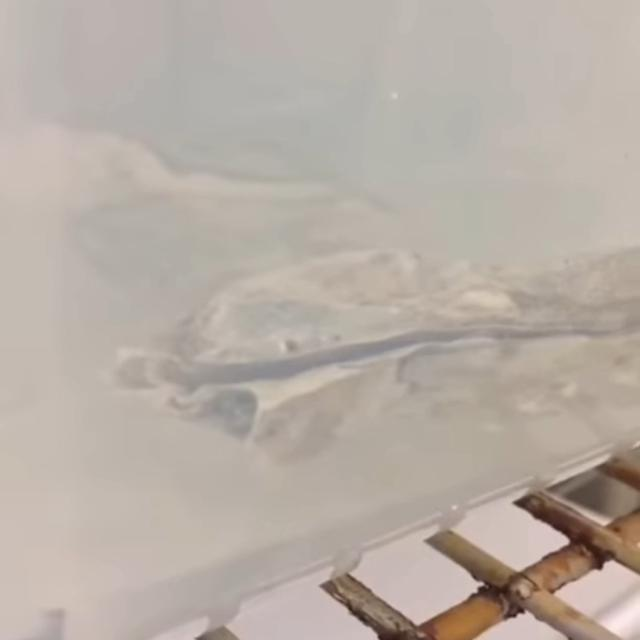Oyster-Indeterminate: (48, 117, 354, 244)
Oyster-Open: (105, 248, 640, 467)
